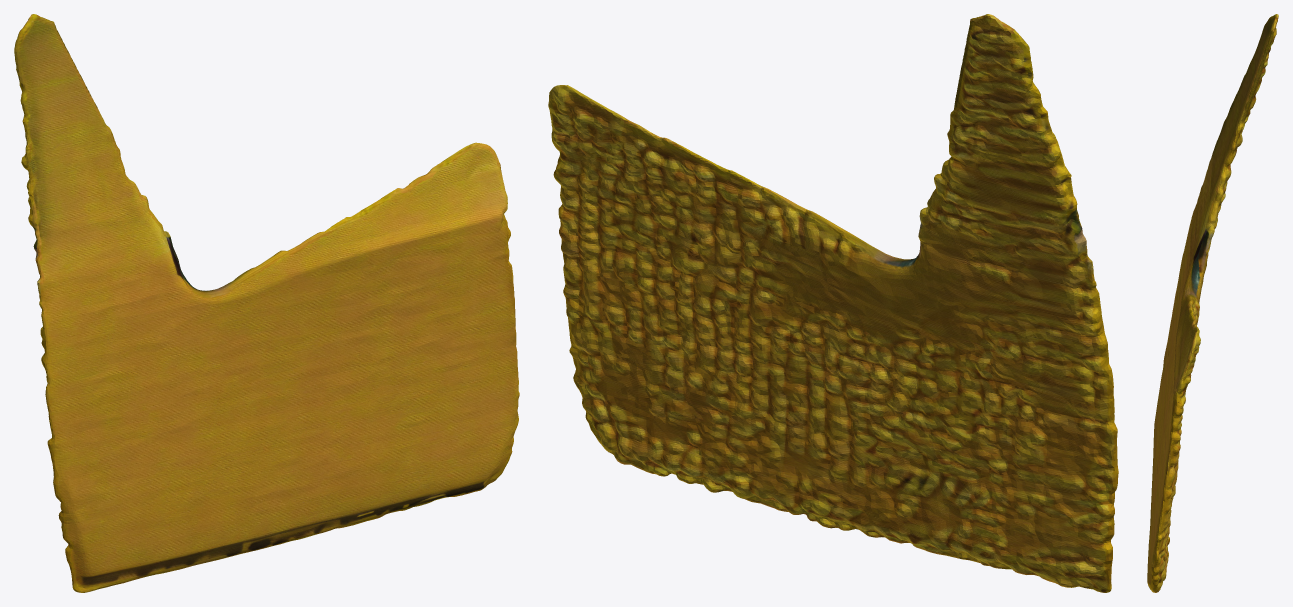
The model's file is image_0003_segmented.glb.
3 views of the same model, side by side, from view 1: azimuth 30°, elevation 25°; view 2: azimuth 150°, elevation 25°; view 3: azimuth 270°, elevation 25° (orthographic). The views are drawn at different scales.
Parts seen in each view (by area): view 1: tmp0rre9wi5.ply; view 2: tmp0rre9wi5.ply; view 3: tmp0rre9wi5.ply.
Boxes of the visible parts, x1,y1,x2,y2 form: tmp0rre9wi5.ply: (14,14,519,592); tmp0rre9wi5.ply: (548,14,1118,592); tmp0rre9wi5.ply: (1147,14,1278,592).
Bounding box in the file's own units: 1.85 × 1.99 × 0.5476.
Materials: 1 (1 with a texture image).
